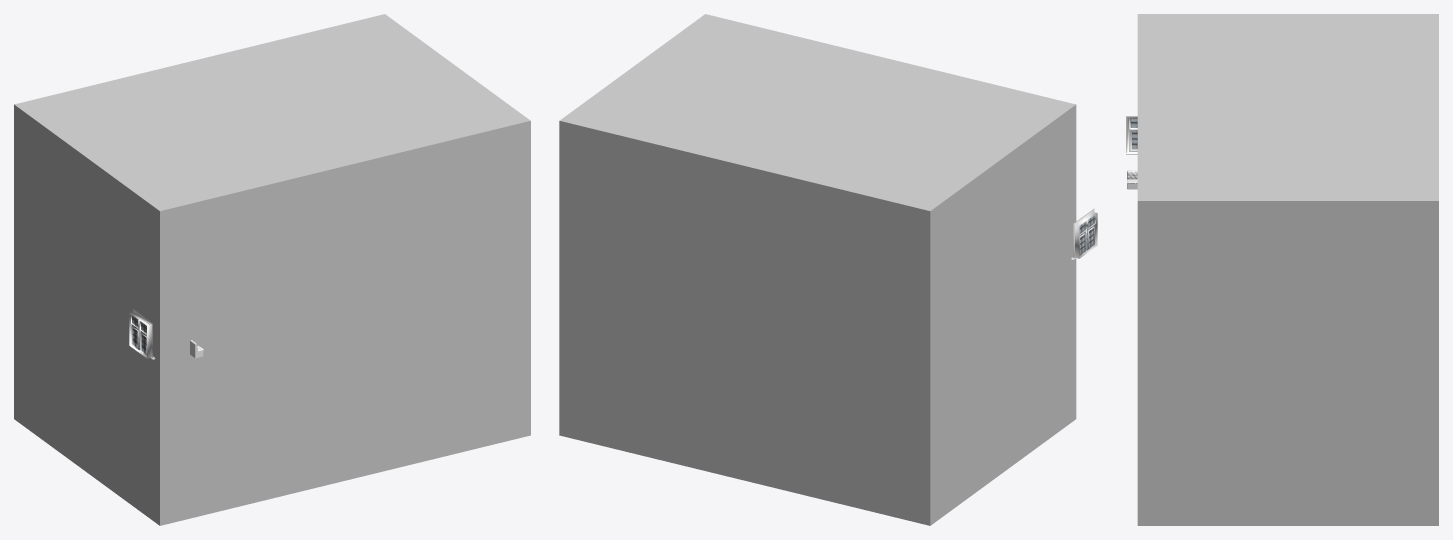
The model's file is bar (1).glb.
The picture shows the model from 3 angles, left to right: view 1: azimuth 30°, elevation 25°; view 2: azimuth 150°, elevation 25°; view 3: azimuth 270°, elevation 25°; orthographic projection. The views are drawn at different scales.
Visible parts, largest first — view 1: Cube; view 2: Cube; view 3: Cube.
Part boxes in pixels (left/top/right/bottom): Cube: left=14, top=14, right=530, bottom=525; Cube: left=559, top=14, right=1076, bottom=525; Cube: left=1137, top=14, right=1438, bottom=525.
Size of the model in its own units: 32.31 by 25.05 by 21.85.
Materials: 12 (3 with a texture image).
